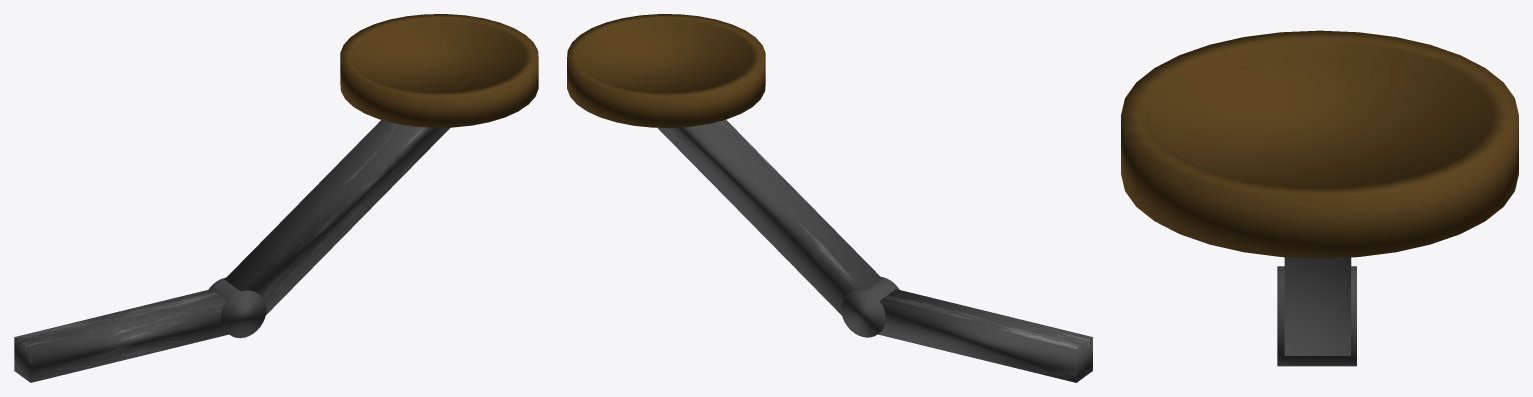
Rendered from Keys typewriter.glb.
3 renders of one model, left to right at view 1: azimuth 30°, elevation 25°; view 2: azimuth 150°, elevation 25°; view 3: azimuth 270°, elevation 25°, orthographic. The views are drawn at different scales.
Parts seen in each view (by area): view 1: Circle, Circle.001; view 2: Circle, Circle.001; view 3: Circle.001, Circle.
Part boxes in pixels (bbox=[...]): Circle: bbox=[14, 120, 450, 382]; Circle.001: bbox=[340, 14, 538, 127]; Circle: bbox=[657, 119, 1092, 382]; Circle.001: bbox=[567, 14, 765, 127]; Circle.001: bbox=[1121, 30, 1518, 258]; Circle: bbox=[1277, 257, 1356, 366].
Bounding box in the file's own units: 8.64 × 3.67 × 2.96.
2 materials, 2 textured.
